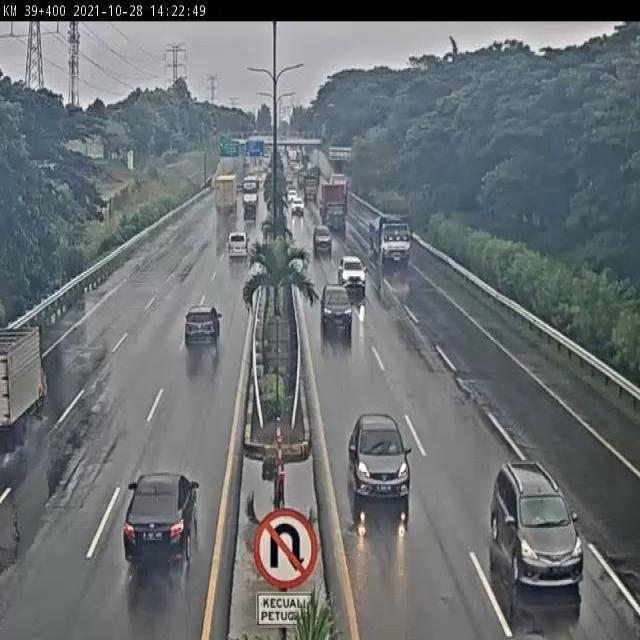truck: (0, 326, 48, 450), (365, 212, 414, 268), (319, 181, 348, 236)
